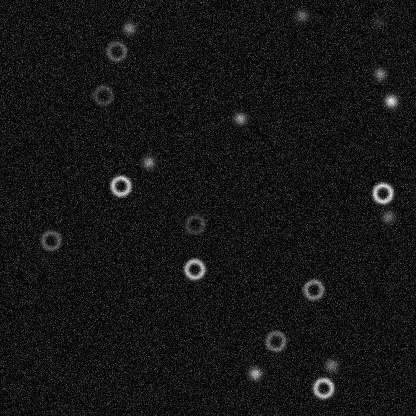Ring: (370, 181, 394, 205), (104, 39, 128, 63), (301, 277, 325, 301), (108, 173, 132, 197), (263, 329, 287, 353), (38, 228, 62, 252), (90, 82, 114, 106), (182, 257, 206, 281), (182, 212, 206, 236), (311, 375, 335, 399)
Spot: (232, 110, 248, 126), (379, 208, 395, 224), (371, 66, 387, 82), (140, 154, 156, 170), (382, 92, 398, 108), (246, 365, 262, 381), (370, 13, 386, 29), (121, 20, 137, 36), (293, 7, 309, 23), (323, 357, 339, 373)
